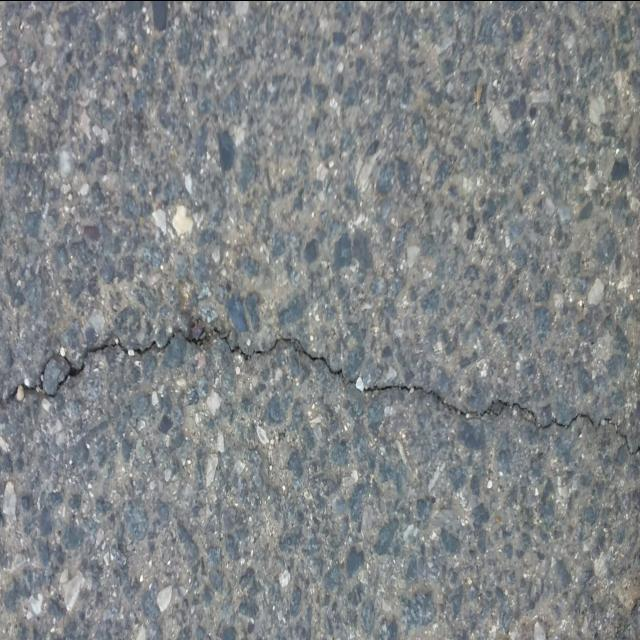Crack: (0, 315, 640, 463)
